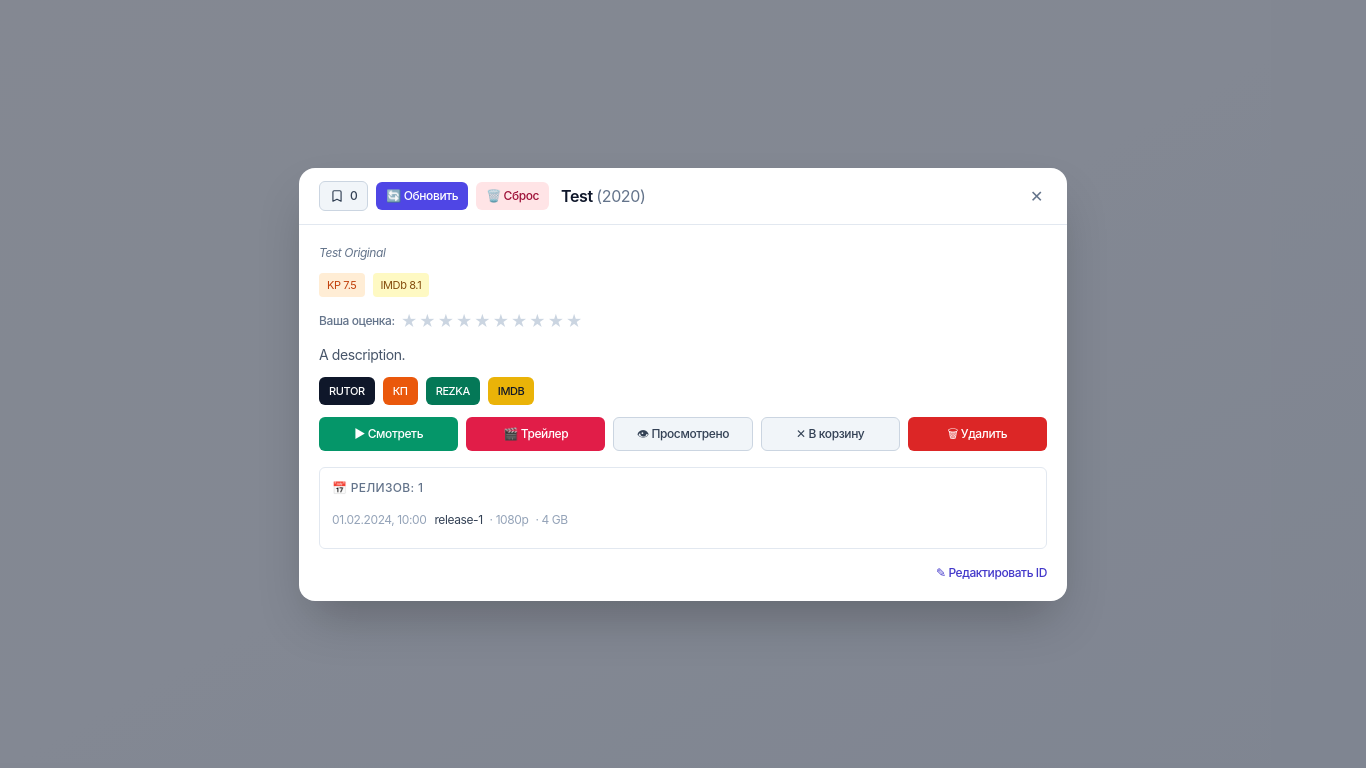
Scenario: ItemCardModal.vue › shows the rebind button when "Перепривязка" is checked
Click the button with test id "item-modal-toggle-edit-ids" at (991, 572), box [936,564,1047,580]
(page scrolled)
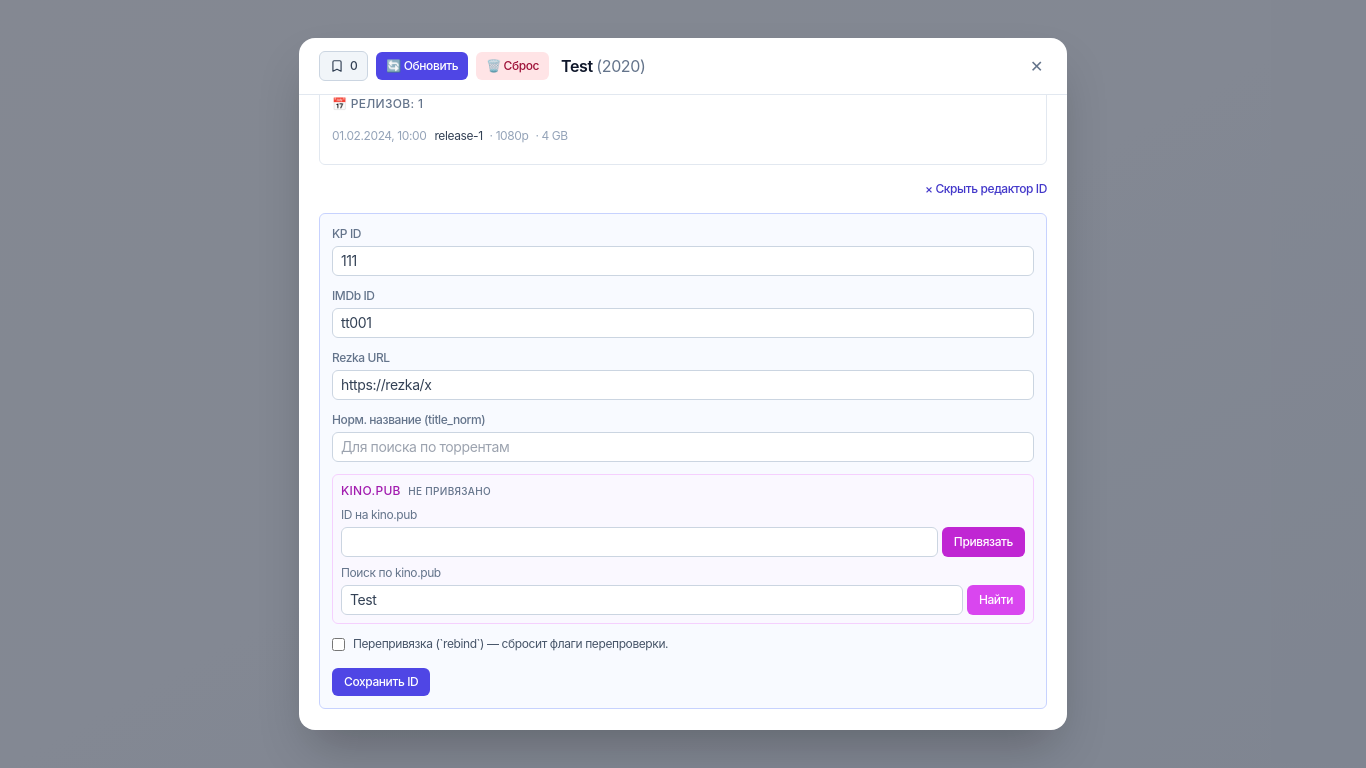
Expected: the button with test id "item-modal-save-ids" is shown, [332,668,430,696]
Click the checkbox with test id "item-modal-rebind-checkbox" at (338, 644), box [332,638,345,651]
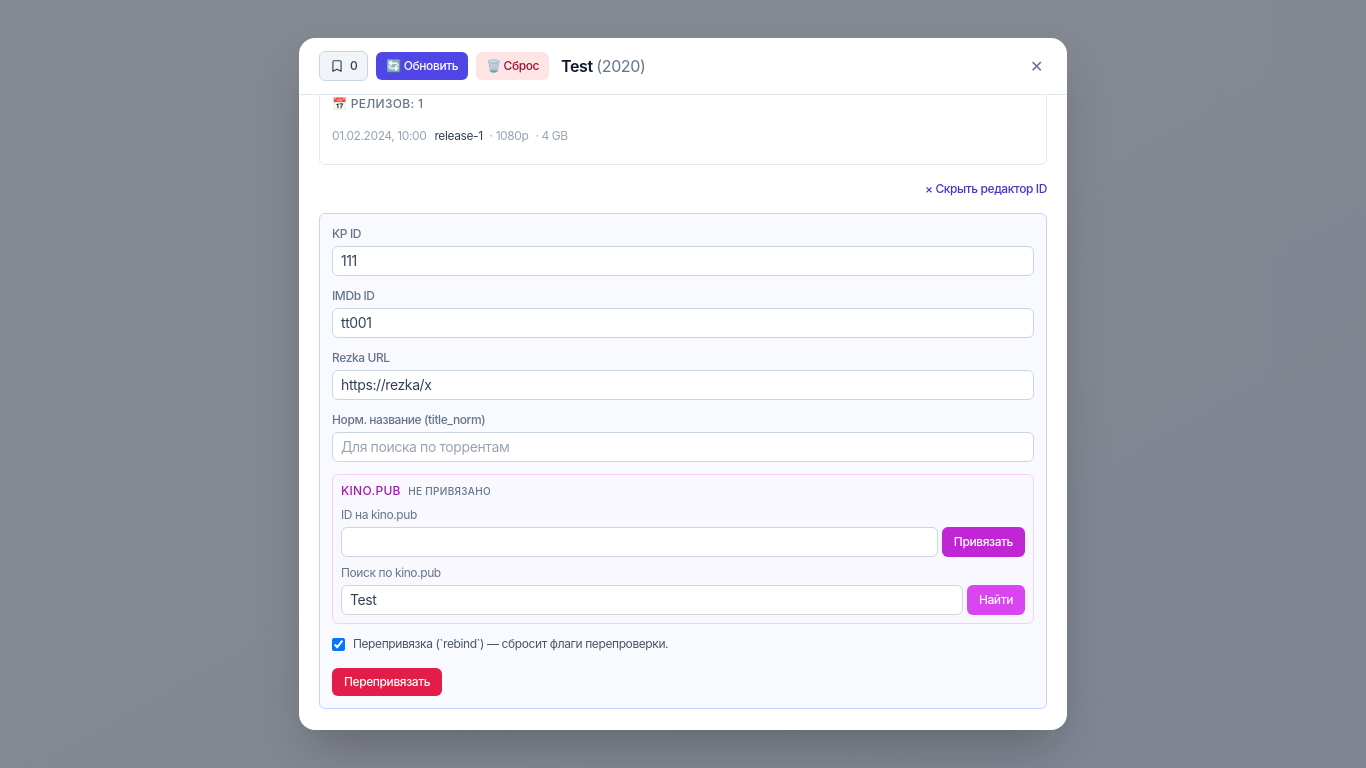
Expected: the button with test id "item-modal-rebind" is shown, [332,668,442,696]
